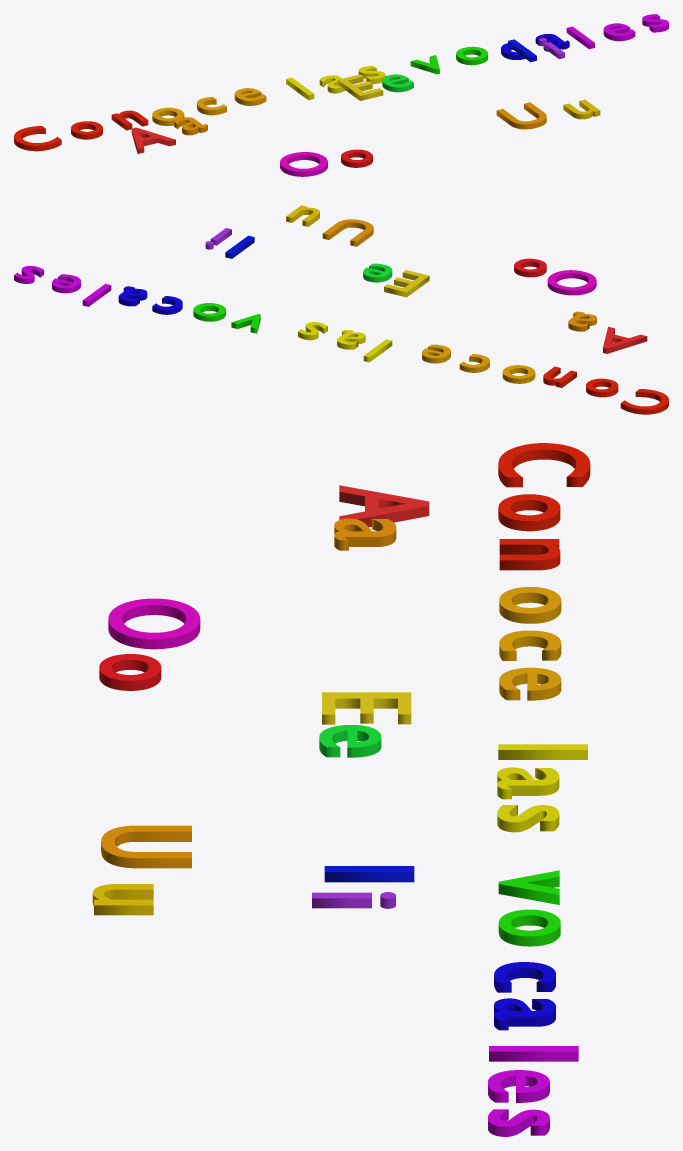
The model's file is asset.glb.
3 renders of one model, top to bottom at view 1: azimuth 30°, elevation 25°; view 2: azimuth 150°, elevation 25°; view 3: azimuth 270°, elevation 25°, orthographic. The views are drawn at different scales.
Parts seen in each view (by area): view 1: Text.005, Text.007, Text.010, Text.008, Text.013, Text.006, Text.011, Text.015, Text.001, Text.009, Text.014, Text.003 (+4 smaller); view 2: Text.005, Text.007, Text.010, Text.008, Text.013, Text.009, Text.006, Text.011, Text.015, Text.001, Text.014, Text.003 (+2 smaller); view 3: Text.005, Text.007, Text.010, Text.008, Text.006, Text.013, Text.015, Text.009, Text.001, Text.011, Text.016, Text.014 (+4 smaller).
Boxes of the visible parts, x1,y1,x2,y2 form: Text.005: (14, 110, 148, 151); Text.007: (152, 88, 266, 125); Text.010: (566, 14, 668, 49); Text.008: (286, 66, 385, 100); Text.013: (280, 152, 327, 176); Text.006: (410, 46, 487, 74); Text.011: (338, 74, 383, 100); Text.015: (496, 102, 546, 129); Text.001: (131, 127, 175, 153); Text.009: (501, 34, 569, 59); Text.014: (341, 149, 372, 167); Text.003: (382, 74, 413, 92); Text.005: (543, 366, 668, 414); Text.007: (422, 344, 535, 383); Text.010: (14, 265, 111, 306); Text.008: (298, 322, 392, 362); Text.013: (547, 270, 596, 295); Text.009: (118, 286, 182, 314); Text.006: (193, 303, 260, 333); Text.011: (384, 270, 429, 297); Text.015: (322, 219, 373, 246); Text.001: (603, 326, 647, 353); Text.014: (514, 258, 546, 277); Text.003: (363, 263, 392, 282); Text.005: (498, 443, 590, 570); Text.007: (499, 587, 561, 700); Text.010: (488, 1046, 578, 1136); Text.008: (497, 744, 587, 832); Text.006: (498, 870, 560, 946); Text.013: (108, 598, 200, 649); Text.015: (101, 825, 191, 868); Text.009: (494, 962, 555, 1030); Text.001: (339, 485, 429, 527); Text.011: (322, 692, 411, 724); Text.016: (92, 884, 153, 915); Text.014: (99, 654, 161, 690).
Size of the model in its own units: 13.3 by 1.06 by 4.47.
